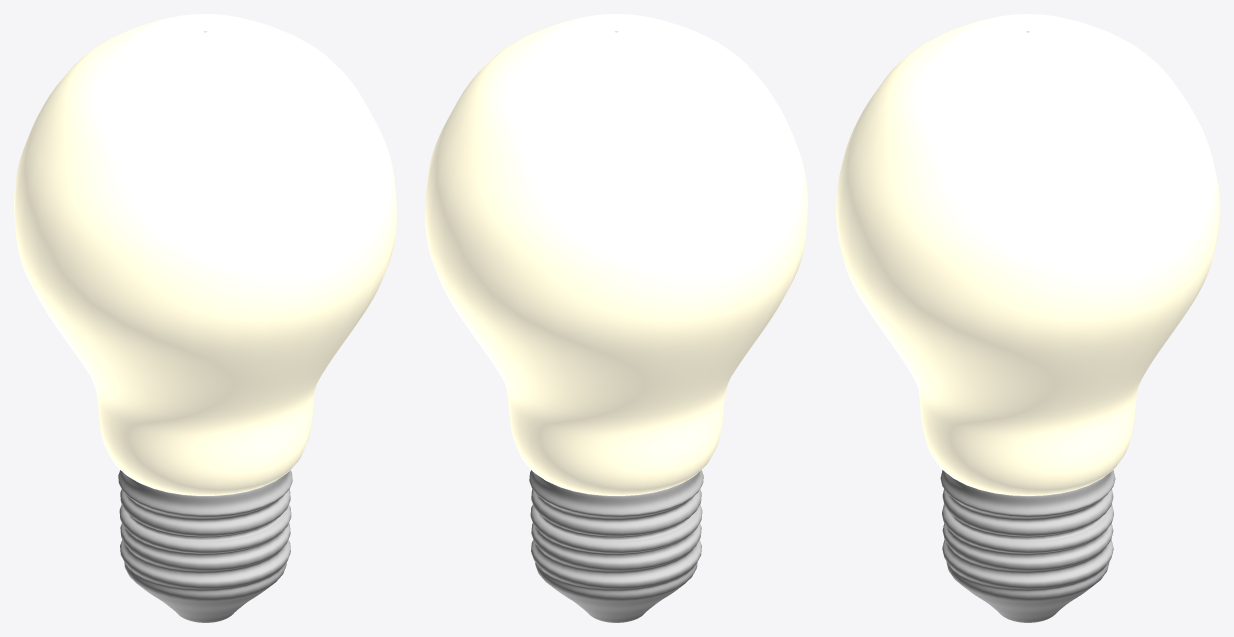
Rendered from lightbulb-transformed.glb.
The picture shows the model from 3 angles, left to right: view 1: azimuth 30°, elevation 25°; view 2: azimuth 150°, elevation 25°; view 3: azimuth 270°, elevation 25°; orthographic projection.
Parts seen in each view (by area): view 1: revolvedSurface9, revolvedSurface10; view 2: revolvedSurface9, revolvedSurface10; view 3: revolvedSurface9, revolvedSurface10.
Part boxes in pixels (x1,y1,x2,y2): revolvedSurface9: (14,14,396,495); revolvedSurface10: (118,470,292,622); revolvedSurface9: (425,14,807,495); revolvedSurface10: (529,470,703,622); revolvedSurface9: (836,14,1219,495); revolvedSurface10: (940,470,1115,622).
Size of the model in its own units: 16.94 by 28.34 by 16.94.
